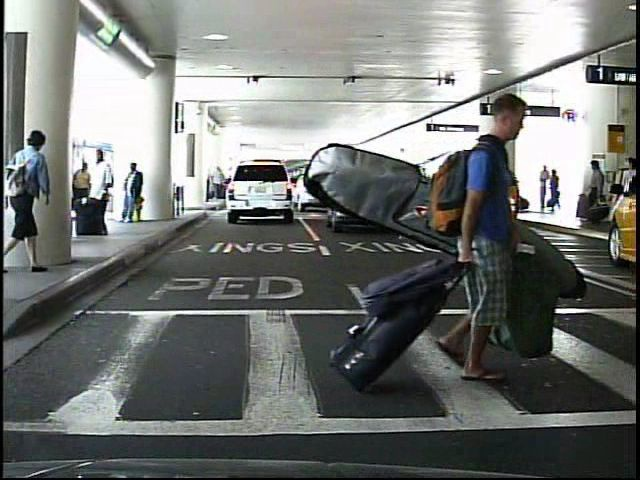person: (422, 80, 533, 386), (6, 131, 57, 275), (88, 146, 114, 238), (119, 160, 145, 226), (71, 158, 92, 232), (581, 158, 604, 225), (535, 163, 550, 211), (547, 169, 559, 213)
